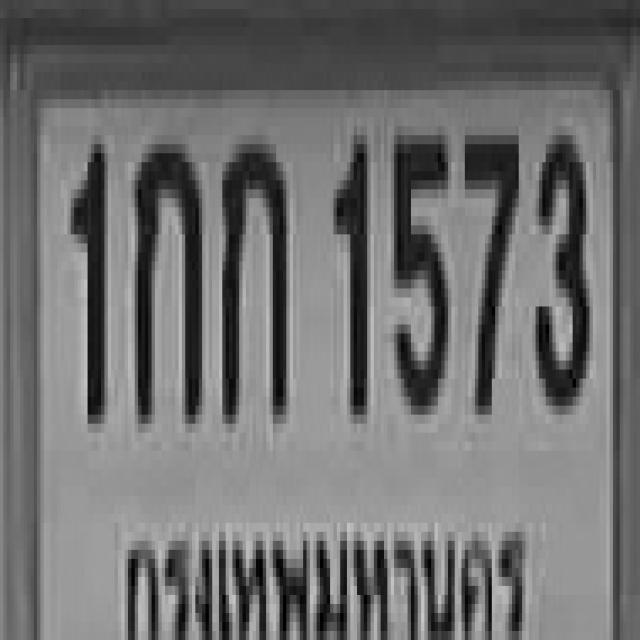1: (68, 135, 104, 415), (330, 131, 364, 410)
10GorGai: (131, 135, 199, 415), (219, 135, 283, 415)
3: (532, 126, 586, 406)
5: (390, 126, 444, 406)
7: (462, 126, 516, 406)
Bangkok: (117, 510, 532, 640)
